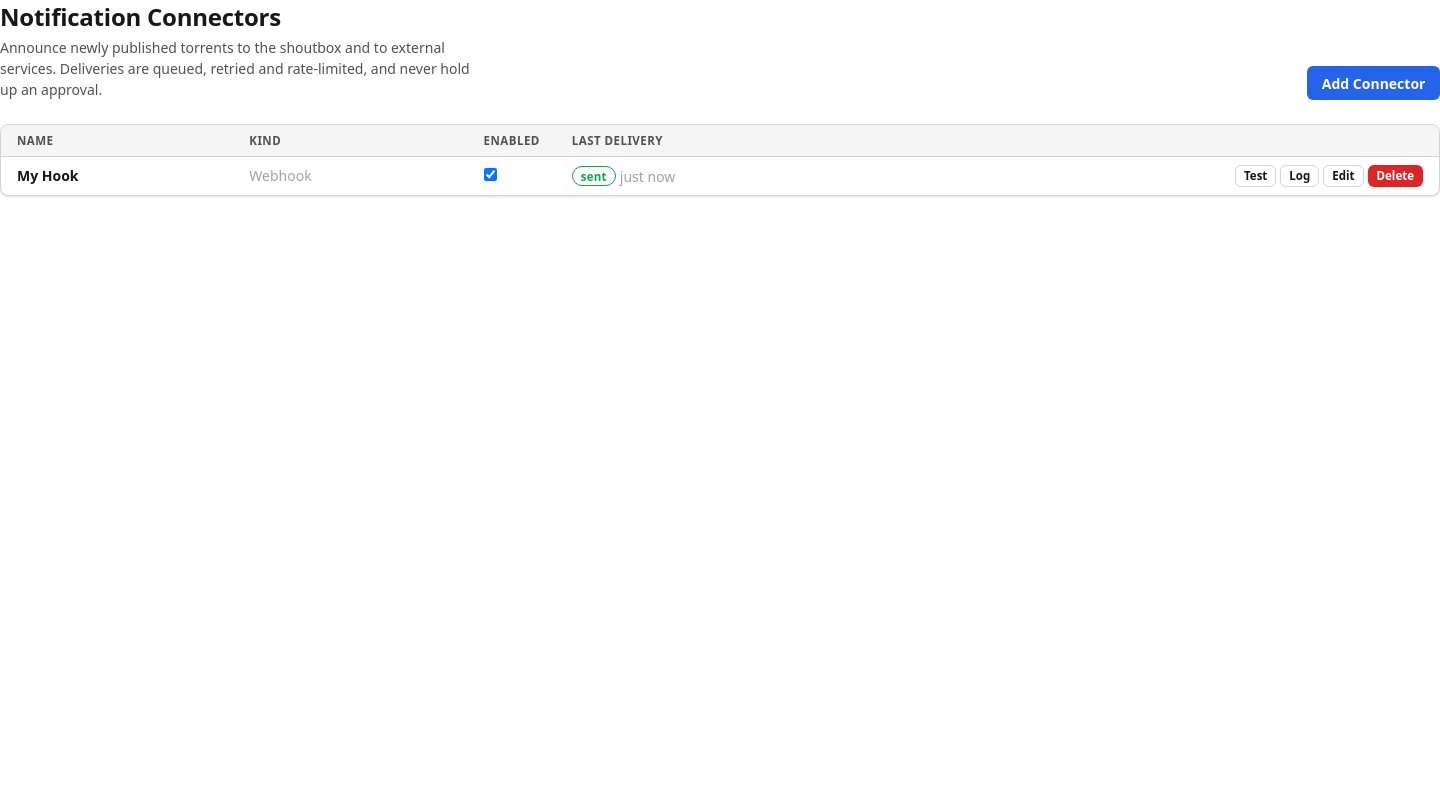
Test: AdminConnectorsPage › the kind cannot be changed on an existing instance
This screenshot has width=1440, height=810.
Click the button "Edit".
click(1343, 176)  # box [1323,165,1364,187]
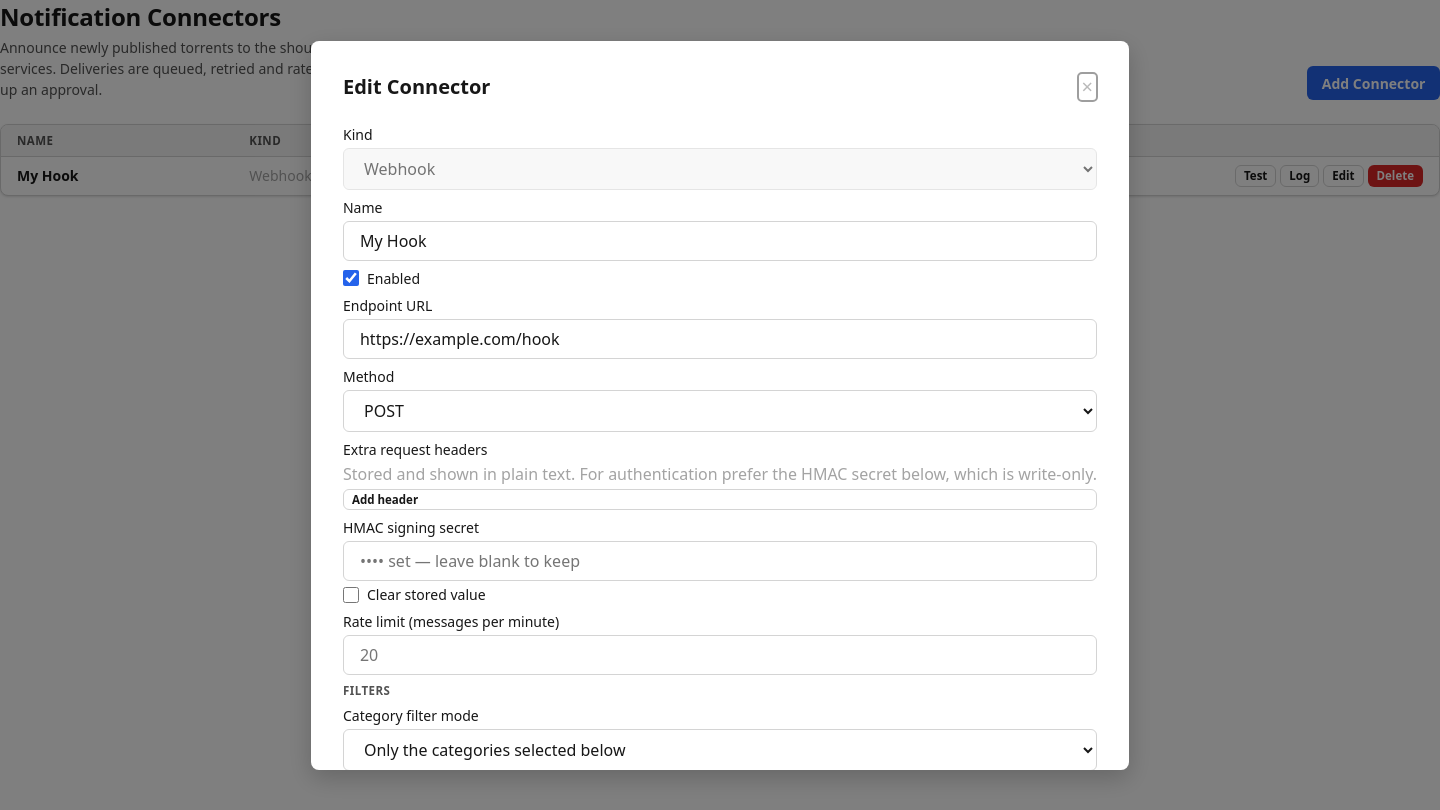
Expected: the dropdown labelled "Kind" is disabled, [343,148,1097,190]
